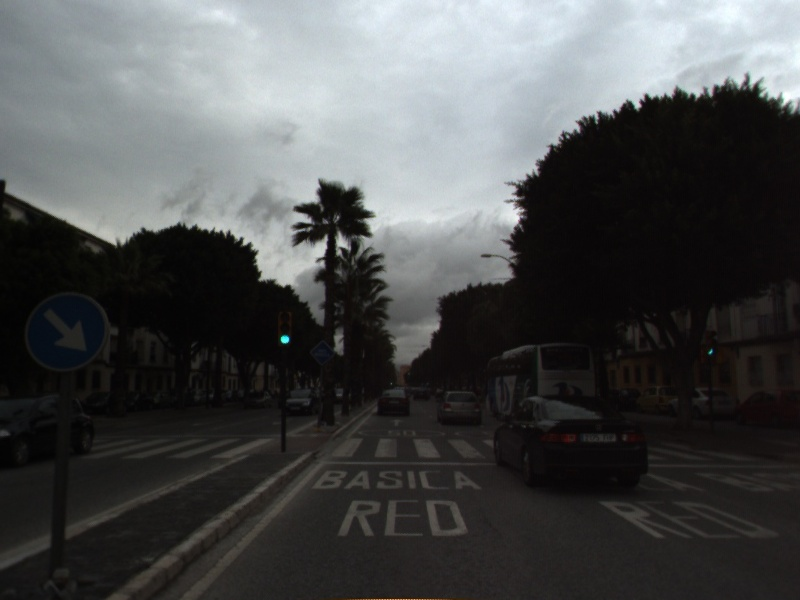STRAIGHT: (388, 417, 406, 428)
